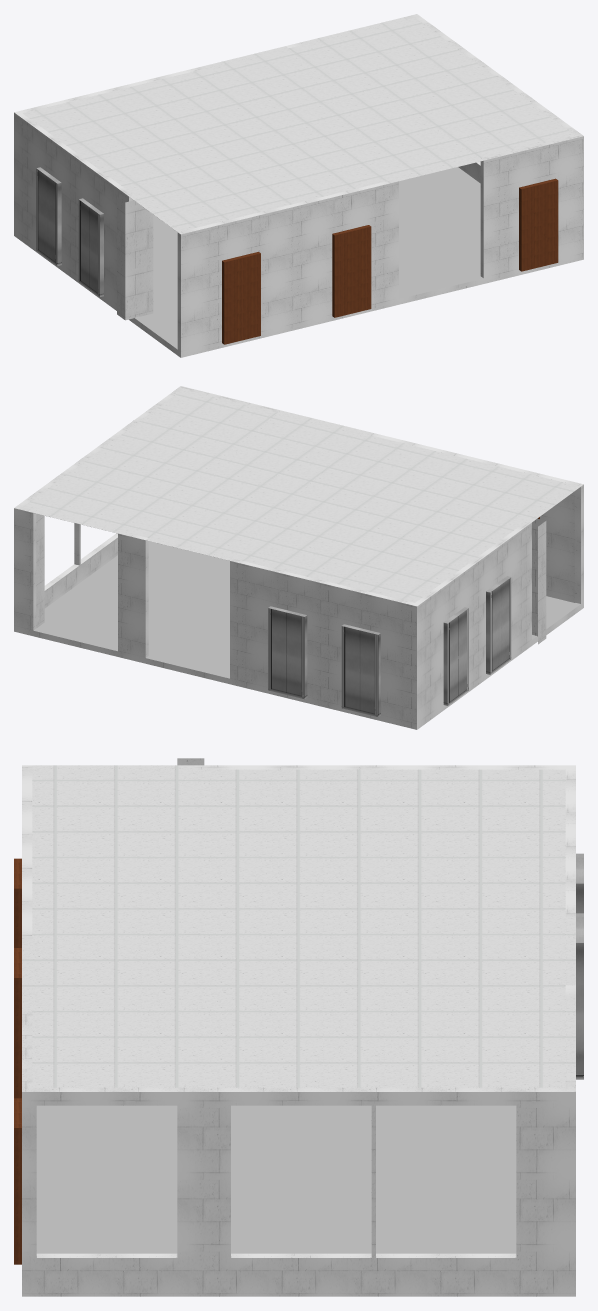
Rendered from crossroad_v1_texture.fbx.
3 views of the same model, one above another, from view 1: azimuth 30°, elevation 25°; view 2: azimuth 150°, elevation 25°; view 3: azimuth 270°, elevation 25° (orthographic). The views are drawn at different scales.
Visible parts, largest first — view 1: Plane.584, Plane.585, door_elevator.192, door.045, column_6/8.027, door_elevator.191; view 2: Plane.584, Plane.585, door.031, door.045, column_6/8.027, column_1/4.015; view 3: Plane.584, Plane.585, door_elevator.192, door.031, door_elevator.191.
Boxes of the visible parts, bbox=[...] form: Plane.584: bbox=[23, 17, 575, 231]; Plane.585: bbox=[14, 14, 583, 357]; door_elevator.192: bbox=[222, 225, 371, 344]; door.045: bbox=[36, 167, 103, 296]; column_6/8.027: bbox=[117, 197, 153, 320]; door_elevator.191: bbox=[519, 178, 558, 271]; Plane.584: bbox=[22, 389, 580, 602]; Plane.585: bbox=[14, 386, 583, 729]; door.031: bbox=[268, 606, 380, 716]; door.045: bbox=[443, 576, 511, 705]; column_6/8.027: bbox=[532, 518, 546, 644]; column_1/4.015: bbox=[36, 513, 44, 628]; Plane.584: bbox=[22, 765, 575, 1087]; Plane.585: bbox=[22, 765, 575, 1296]; door_elevator.192: bbox=[14, 858, 21, 1098]; door.031: bbox=[576, 853, 583, 1079]; door_elevator.191: bbox=[14, 1098, 21, 1264].
Bounding box in the file's own units: 389 × 111 × 281.
